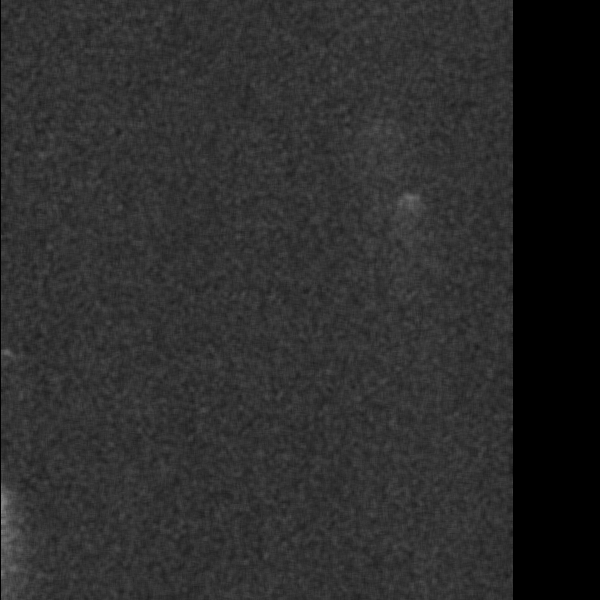spark: (398, 189, 422, 242)
